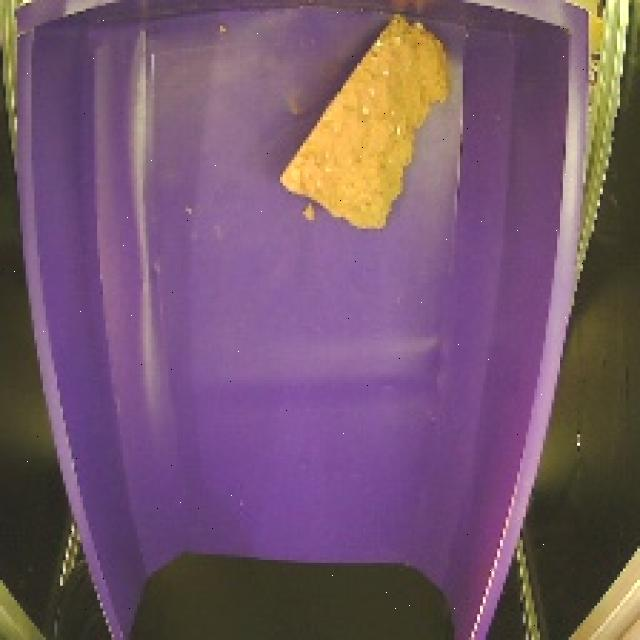brick: (264, 10, 462, 241)
